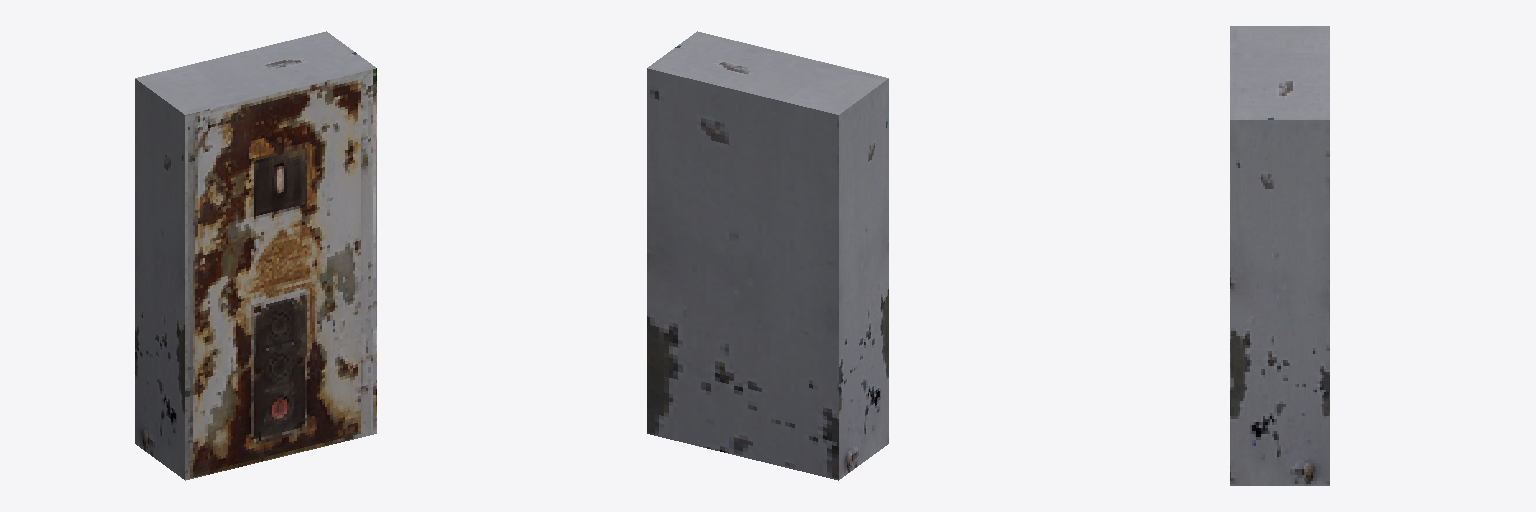
3 views of the same model, side by side, from view 1: azimuth 30°, elevation 25°; view 2: azimuth 150°, elevation 25°; view 3: azimuth 270°, elevation 25° (orthographic).
Parts seen in each view (by area): view 1: Cube_Cube.003; view 2: Cube_Cube.003; view 3: Cube_Cube.003.
Boxes of the visible parts, x1,y1,x2,y2 form: Cube_Cube.003: [135, 31, 376, 480]; Cube_Cube.003: [647, 31, 888, 480]; Cube_Cube.003: [1230, 26, 1329, 485].
Size of the model in its own units: 1.13 by 2.05 by 0.513.
Materials: 1 (1 with a texture image).